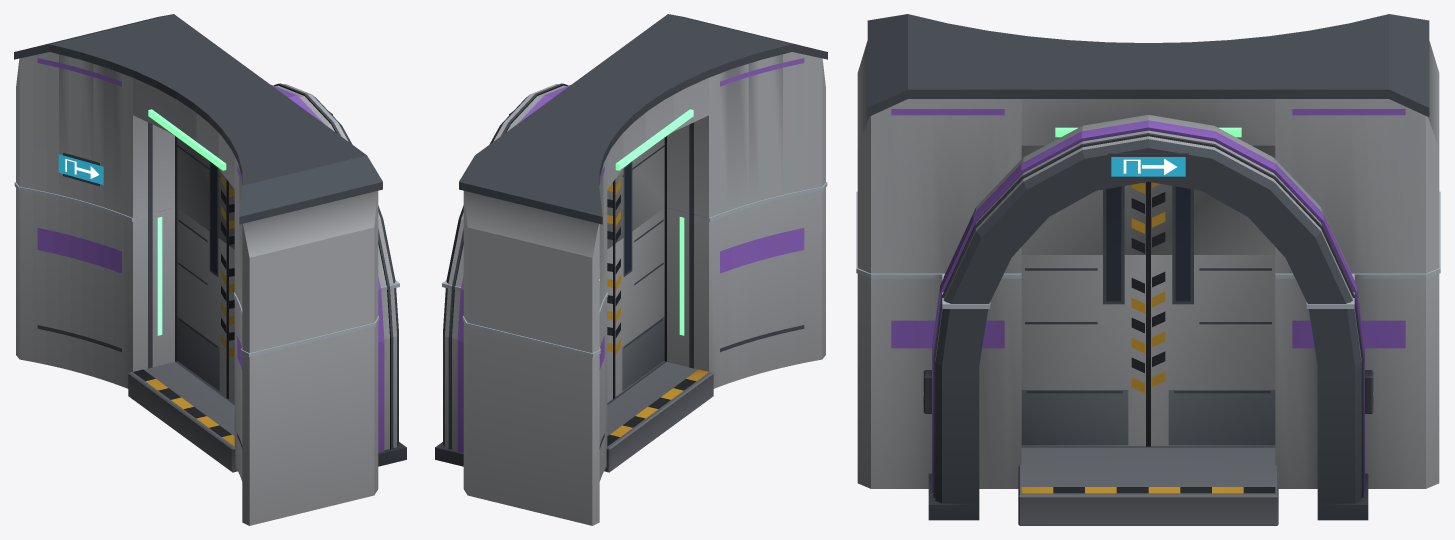
Rendered from doorway_flat_r325.glb.
The picture shows the model from 3 angles, left to right: view 1: azimuth 30°, elevation 25°; view 2: azimuth 150°, elevation 25°; view 3: azimuth 270°, elevation 25°; orthographic projection. The views are drawn at different scales.
Parts seen in each view (by area): view 1: FrameTop, Frame, DoorR, DoorRTop, FrameCap, DoorL, Sign, Status, Lights, DoorLTop; view 2: FrameTop, Frame, DoorL, DoorLTop, FrameCap, DoorR, Status, Lights, DoorRTop; view 3: FrameTop, Frame, DoorL, DoorR, DoorLTop, DoorRTop, Sign, FrameCap.
Part boxes in pixels (left/top/right/bottom): FrameTop: left=14, top=14, right=395, bottom=353; Frame: left=16, top=188, right=406, bottom=525; DoorR: left=177, top=208, right=227, bottom=397; DoorRTop: left=177, top=137, right=227, bottom=244; FrameCap: left=14, top=182, right=399, bottom=357; DoorL: left=227, top=245, right=234, bottom=402; Sign: left=58, top=111, right=332, bottom=186; Status: left=148, top=109, right=226, bottom=170; Lights: left=157, top=217, right=162, bottom=335; DoorLTop: left=227, top=180, right=234, bottom=249; FrameTop: left=446, top=14, right=827, bottom=353; Frame: left=435, top=188, right=825, bottom=525; DoorL: left=614, top=208, right=664, bottom=397; DoorLTop: left=614, top=137, right=664, bottom=244; FrameCap: left=442, top=182, right=827, bottom=357; DoorR: left=607, top=245, right=614, bottom=402; Status: left=615, top=109, right=693, bottom=170; Lights: left=679, top=217, right=684, bottom=335; DoorRTop: left=607, top=180, right=614, bottom=249; FrameTop: left=857, top=14, right=1439, bottom=303; Frame: left=857, top=274, right=1439, bottom=525; DoorL: left=1021, top=255, right=1148, bottom=446; DoorR: left=1148, top=255, right=1275, bottom=446; DoorLTop: left=1021, top=145, right=1148, bottom=255; DoorRTop: left=1148, top=145, right=1275, bottom=255; Sign: left=1108, top=153, right=1188, bottom=179; FrameCap: left=856, top=191, right=1440, bottom=308.
Bounding box in the file's own units: 1.63 × 2.67 × 3.46.
